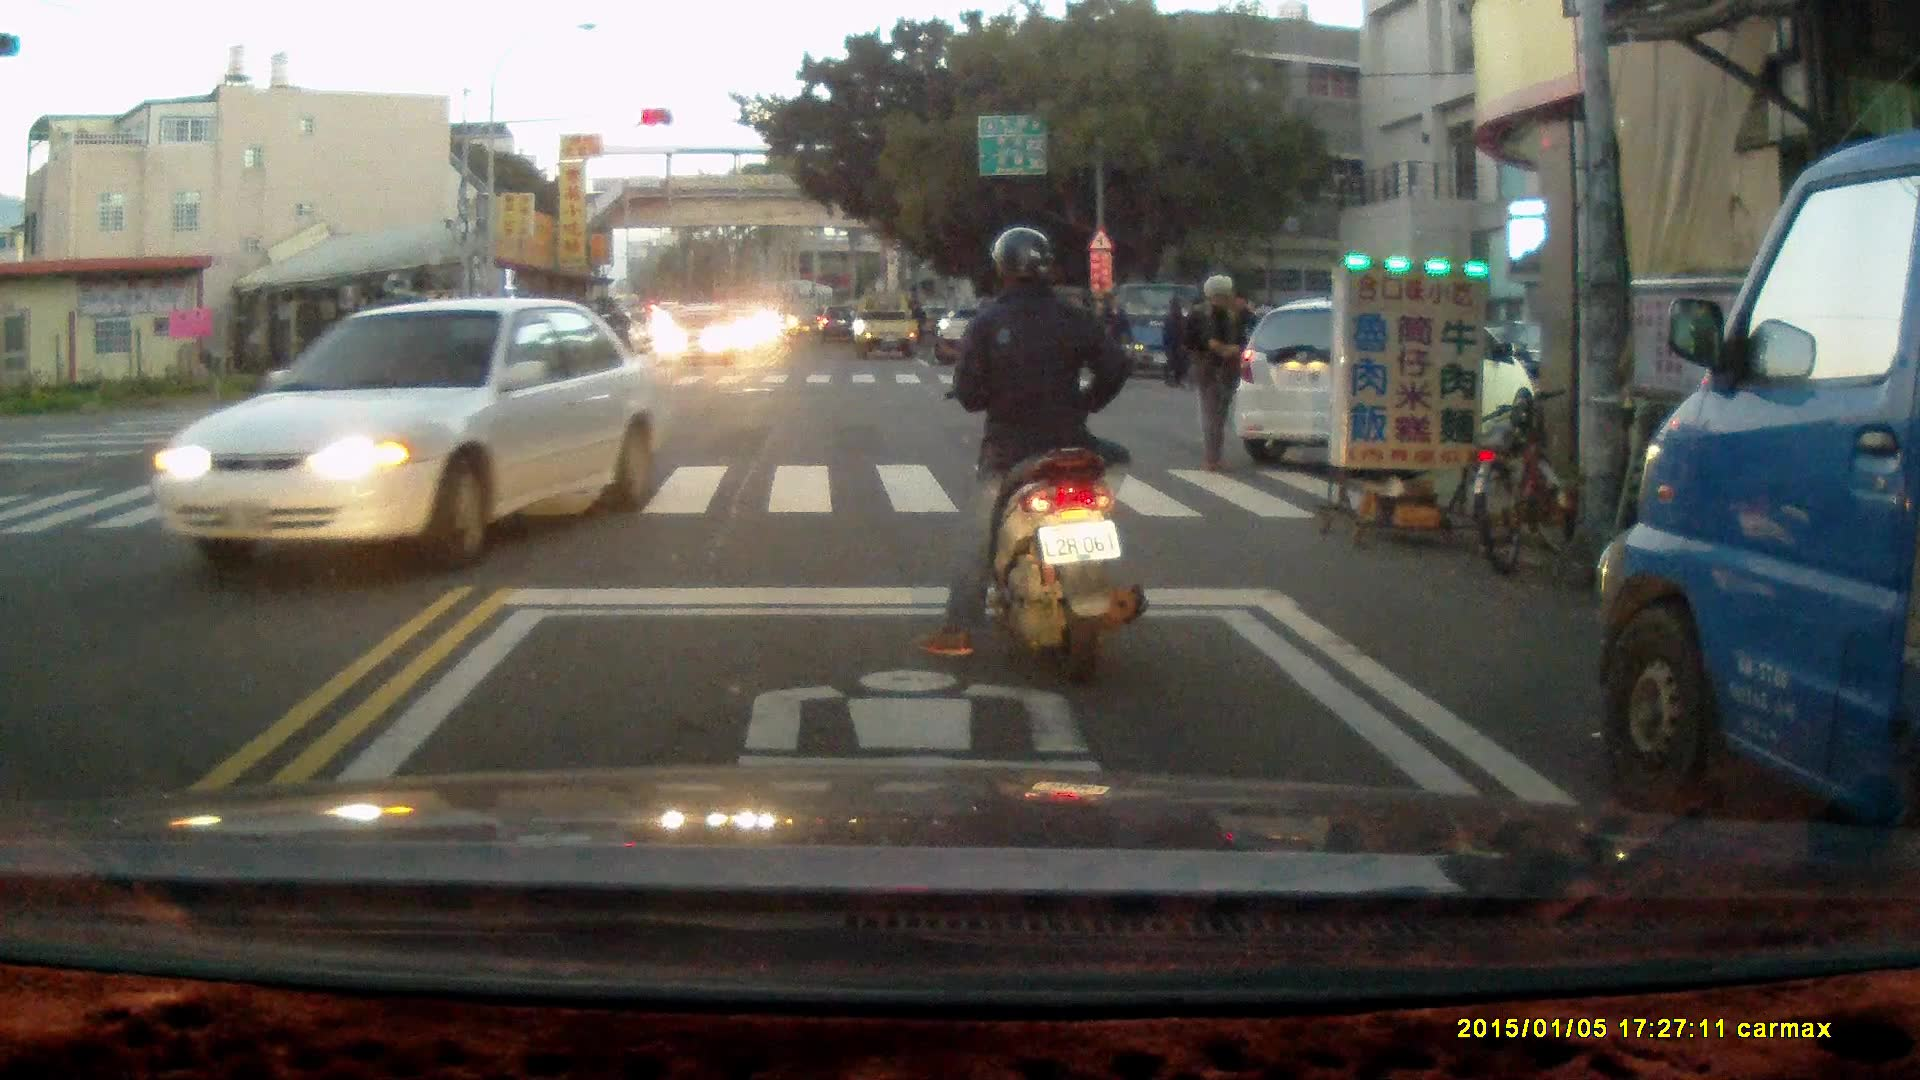pedestrian: (1184, 272, 1245, 473), (1094, 289, 1135, 388), (1160, 294, 1194, 391)
rider: (918, 229, 1149, 686), (593, 300, 631, 369)
vehicle: (1596, 120, 1920, 901), (140, 295, 670, 570), (1236, 303, 1533, 462), (659, 300, 739, 373), (852, 292, 921, 363)
